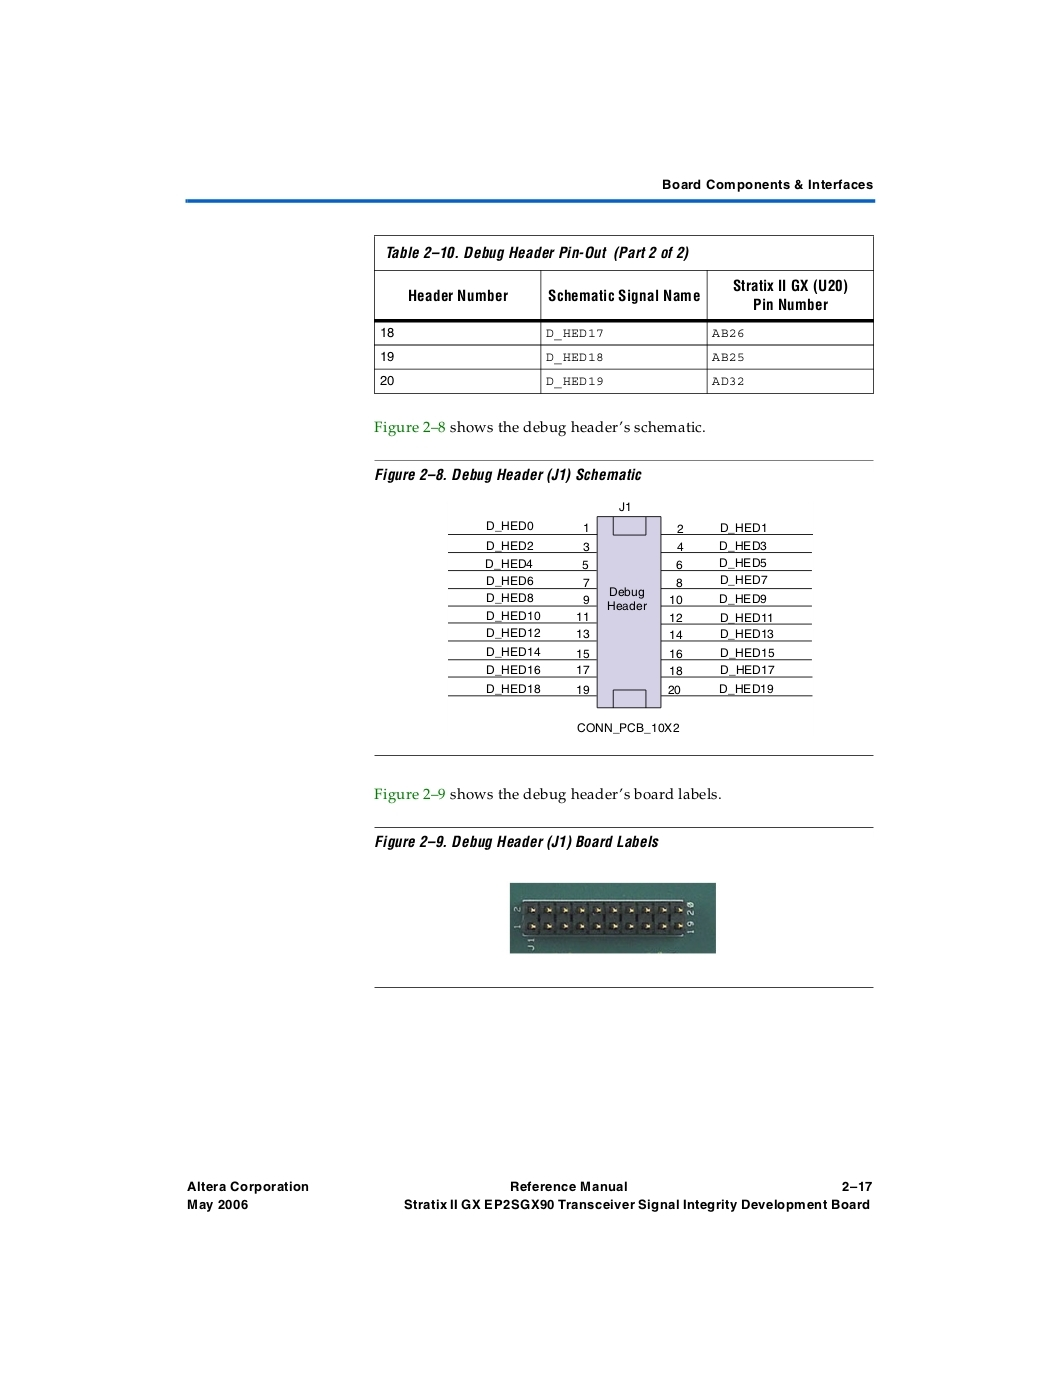Table: (374, 234, 873, 395)
figure: (448, 502, 812, 708), (509, 882, 716, 953)
